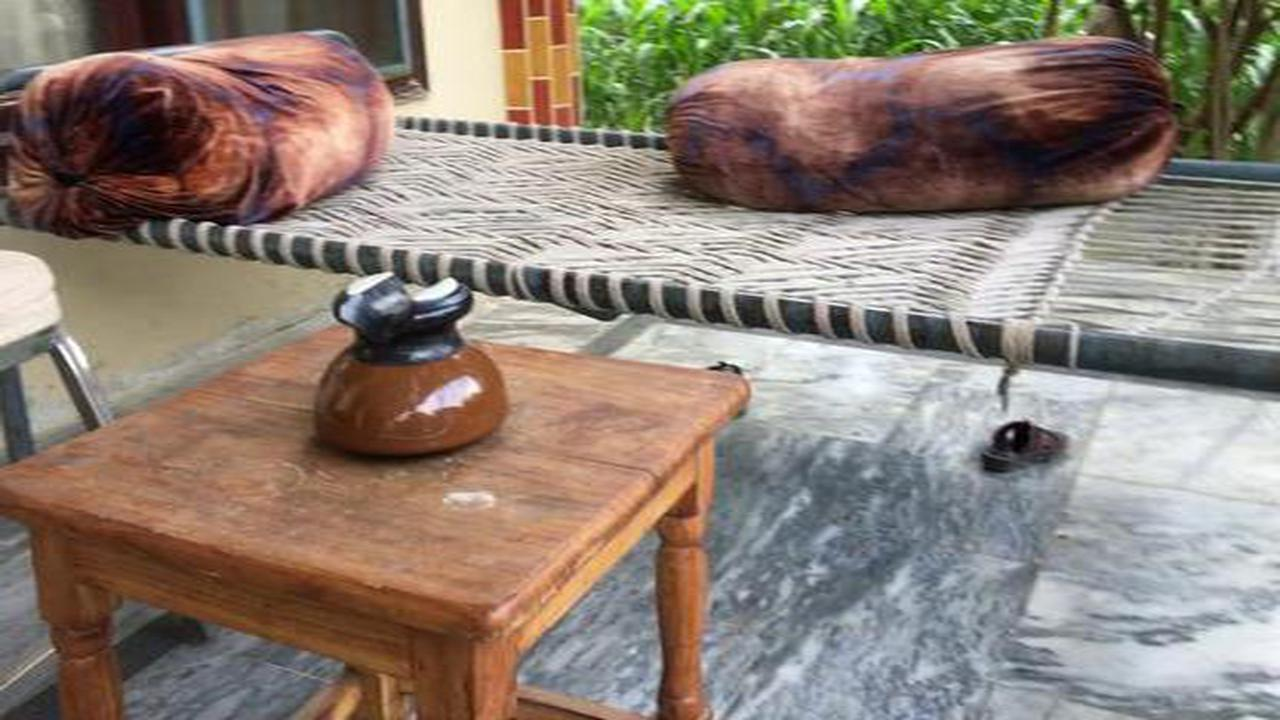insulator_pin: (290, 255, 533, 466)
